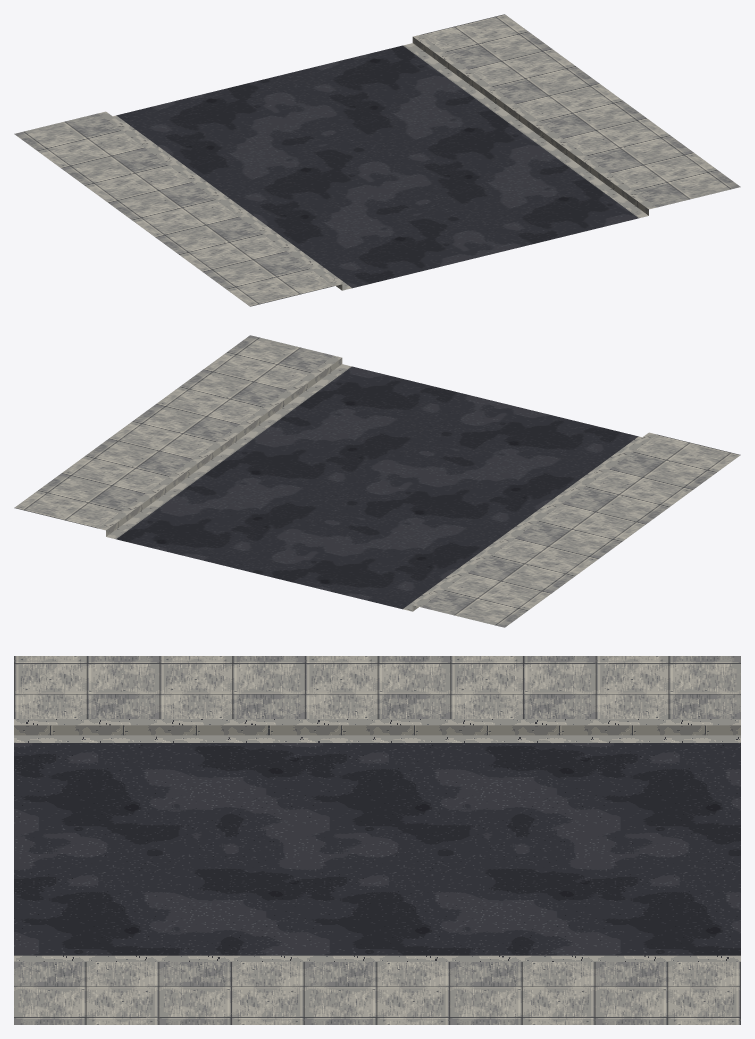
The model's file is RD_Street_Residential_10m.obj.
3 renders of one model, top to bottom at view 1: azimuth 30°, elevation 25°; view 2: azimuth 150°, elevation 25°; view 3: azimuth 270°, elevation 25°, orthographic. The views are drawn at different scales.
Visible parts, largest first — view 1: RD_Street_Residential_10m_Mesh_M_Road_Asphalt, RD_Street_Residential_10m_Mesh_M_Road_SidewalkConcrete, RD_Street_Residential_10m_Mesh_M_Road_CurbConcrete; view 2: RD_Street_Residential_10m_Mesh_M_Road_Asphalt, RD_Street_Residential_10m_Mesh_M_Road_SidewalkConcrete, RD_Street_Residential_10m_Mesh_M_Road_CurbConcrete; view 3: RD_Street_Residential_10m_Mesh_M_Road_Asphalt, RD_Street_Residential_10m_Mesh_M_Road_SidewalkConcrete, RD_Street_Residential_10m_Mesh_M_Road_CurbConcrete.
Boxes of the visible parts, x1,y1,x2,y2 form: RD_Street_Residential_10m_Mesh_M_Road_Asphalt: (116, 45, 638, 288); RD_Street_Residential_10m_Mesh_M_Road_SidewalkConcrete: (14, 14, 740, 306); RD_Street_Residential_10m_Mesh_M_Road_CurbConcrete: (98, 34, 656, 290); RD_Street_Residential_10m_Mesh_M_Road_Asphalt: (116, 366, 638, 609); RD_Street_Residential_10m_Mesh_M_Road_SidewalkConcrete: (14, 335, 740, 627); RD_Street_Residential_10m_Mesh_M_Road_CurbConcrete: (98, 355, 656, 611); RD_Street_Residential_10m_Mesh_M_Road_Asphalt: (14, 743, 740, 955); RD_Street_Residential_10m_Mesh_M_Road_SidewalkConcrete: (14, 656, 740, 1024); RD_Street_Residential_10m_Mesh_M_Road_CurbConcrete: (14, 719, 740, 961).
Bounding box in the file's own units: 12 × 0.15 × 10.
Materials: 3 (3 with a texture image).
